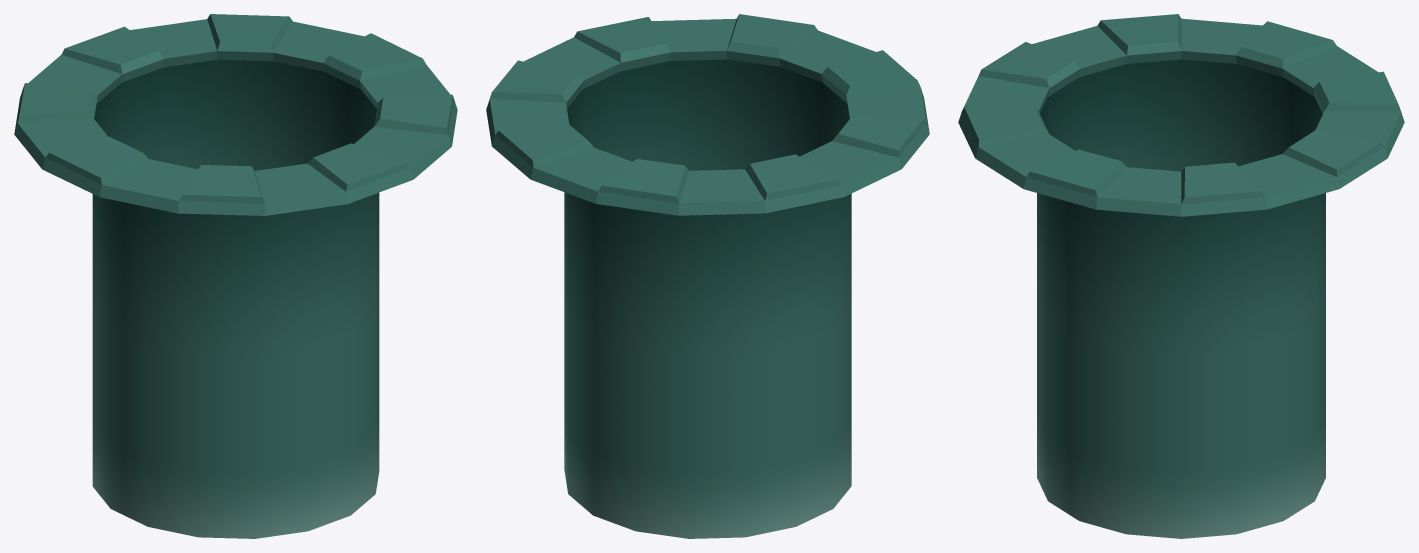
File: Furnace.fbx
3 views of the same model, side by side, from view 1: azimuth 30°, elevation 25°; view 2: azimuth 150°, elevation 25°; view 3: azimuth 270°, elevation 25° (orthographic).
Visible parts, largest first — view 1: FirePit9; view 2: FirePit9; view 3: FirePit9.
Part boxes in pixels (box(x1,y1,x2,y2)): FirePit9: box(14, 14, 457, 538); FirePit9: box(486, 14, 929, 538); FirePit9: box(958, 14, 1404, 538).
Size of the model in its own units: 460 by 425 by 460.
1 material, 1 textured.
